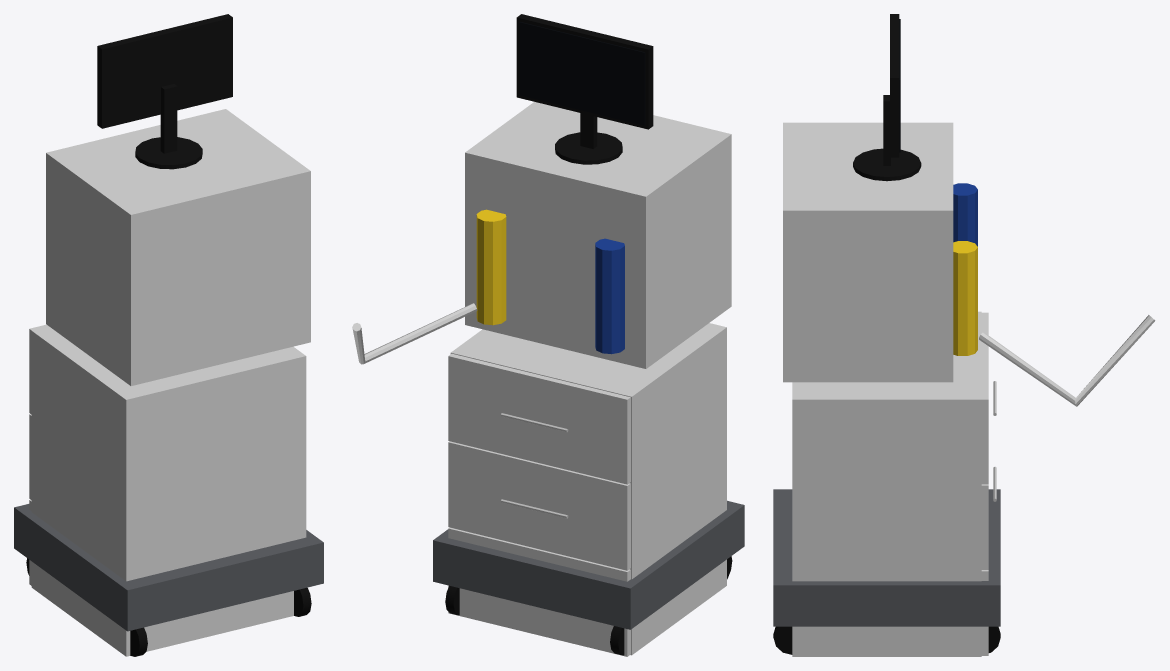
File: hospital.theatre.anaesthetic.glb
The picture shows the model from 3 angles, left to right: view 1: azimuth 30°, elevation 25°; view 2: azimuth 150°, elevation 25°; view 3: azimuth 270°, elevation 25°; orthographic projection.
Visible parts, largest first — view 1: main__plastic_white, main__plastic_grey, main__plastic_black, main__rubber; view 2: main__plastic_white, main__plastic_grey, main__screen, main__plastic_black, main__plastic_yellow, main__plastic_blue, main__rubber; view 3: main__plastic_white, main__plastic_grey, main__plastic_black, main__plastic_yellow, main__plastic_blue, main__rubber.
Boxes of the visible parts, x1,y1,x2,y2 form: main__plastic_white: (29, 109, 310, 656); main__plastic_grey: (14, 504, 323, 631); main__plastic_black: (97, 14, 232, 169); main__rubber: (26, 558, 311, 656); main__plastic_white: (352, 102, 731, 656); main__plastic_grey: (433, 500, 744, 629); main__screen: (519, 22, 645, 125); main__plastic_black: (516, 14, 653, 164); main__plastic_yellow: (476, 209, 506, 325); main__plastic_blue: (595, 238, 624, 354); main__rubber: (445, 556, 732, 655); main__plastic_white: (783, 122, 1155, 656); main__plastic_grey: (773, 489, 1000, 626); main__plastic_black: (853, 14, 921, 181); main__plastic_yellow: (953, 241, 977, 355); main__plastic_blue: (953, 183, 977, 246); main__rubber: (773, 626, 1000, 654).
Size of the model in its own units: 0.7117 by 1.65 by 1.01.
